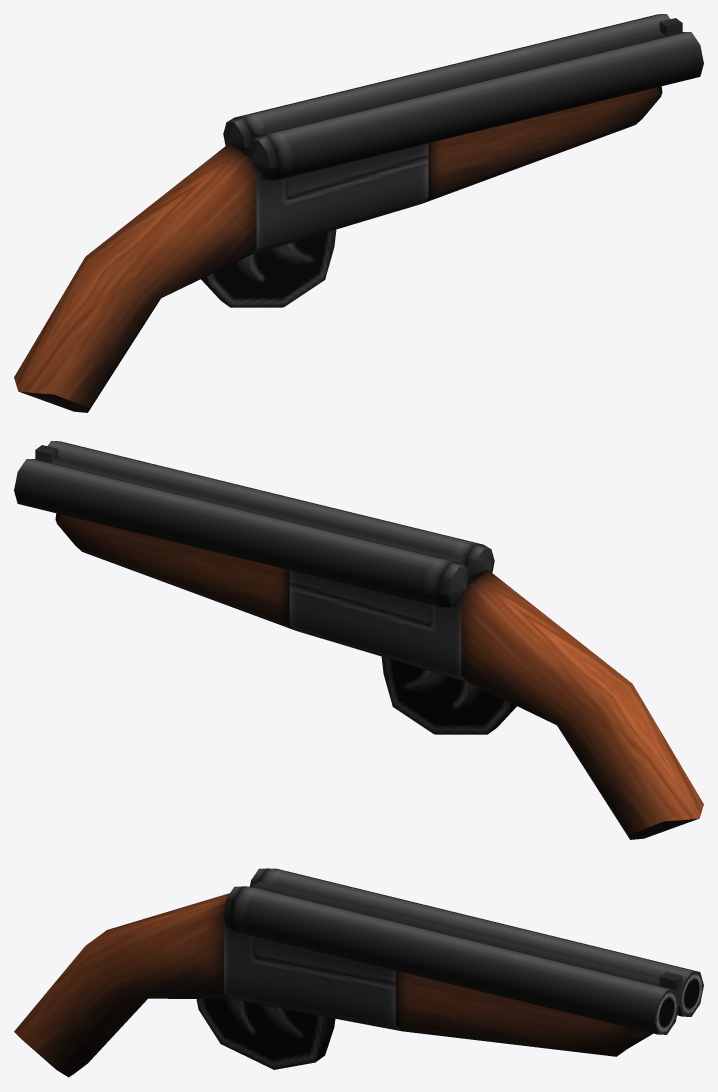
Rendered from hunting shotgun.FBX.
3 views of the same model, one above another, from view 1: azimuth 30°, elevation 25°; view 2: azimuth 150°, elevation 25°; view 3: azimuth 330°, elevation 25° (orthographic).
Visible parts, largest first — view 1: Object139; view 2: Object139; view 3: Object139.
Part boxes in pixels (<box>): Object139: <box>14,14,703,412</box>; Object139: <box>14,441,703,839</box>; Object139: <box>14,868,703,1077</box>.
Size of the model in its own units: 35.76 by 12.58 by 4.63.
